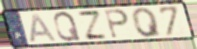7: (158, 5, 181, 38)
A: (28, 12, 58, 43)
P: (103, 9, 131, 40)
Q: (130, 7, 164, 39), (52, 10, 82, 43)
Z: (76, 10, 110, 40)
